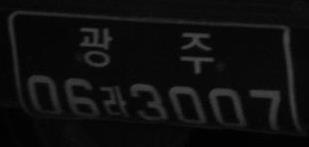0: (208, 87, 247, 129), (169, 85, 207, 125), (27, 73, 62, 115)
3: (130, 82, 169, 121)
6: (63, 77, 101, 119)
7: (248, 88, 282, 131)
광주_D: (80, 25, 214, 73)
라: (102, 85, 129, 118)
